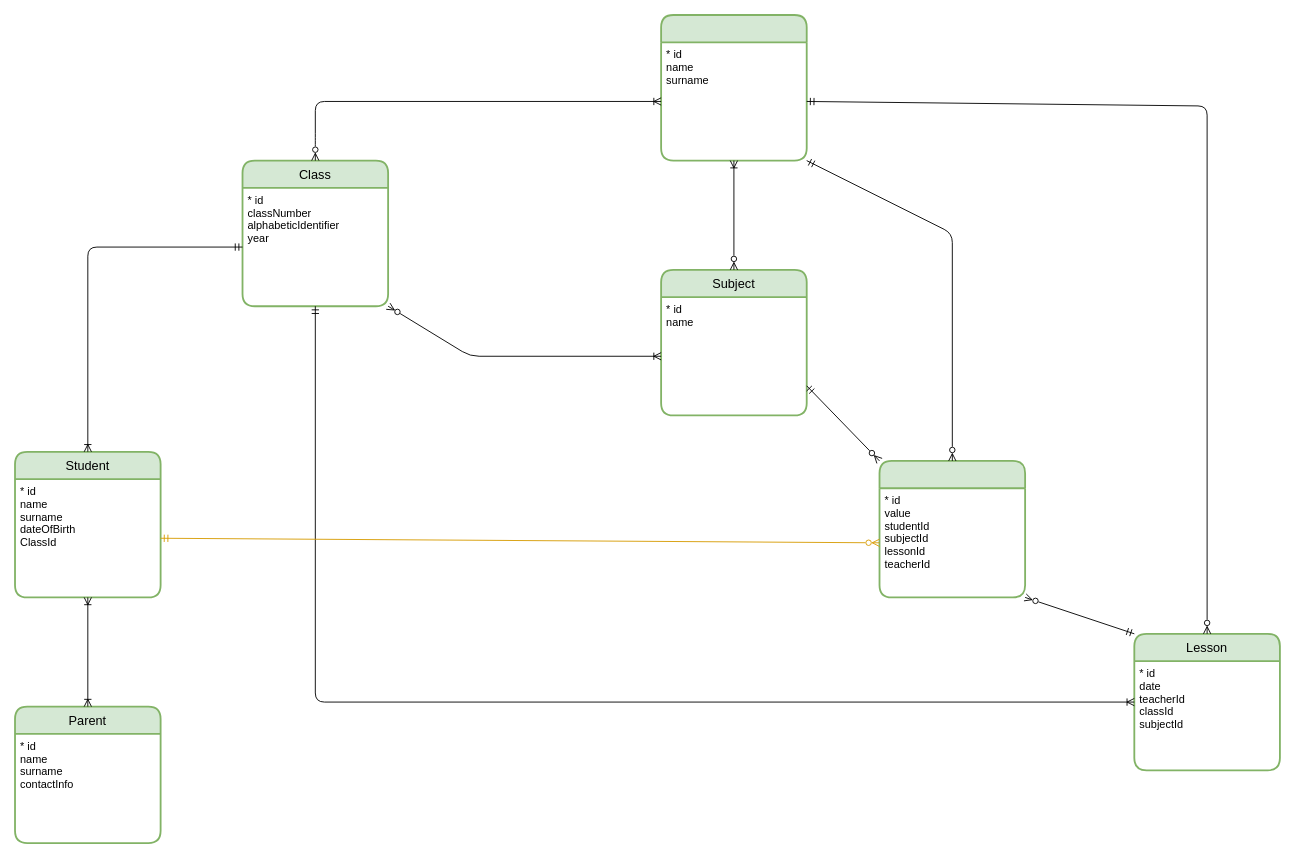
Image size: 1295x858. Some labels were removed from this diagram. Each missing label, with the box of its shape:
Grade: (878, 460, 1026, 598)
Teacher: (660, 14, 807, 161)
